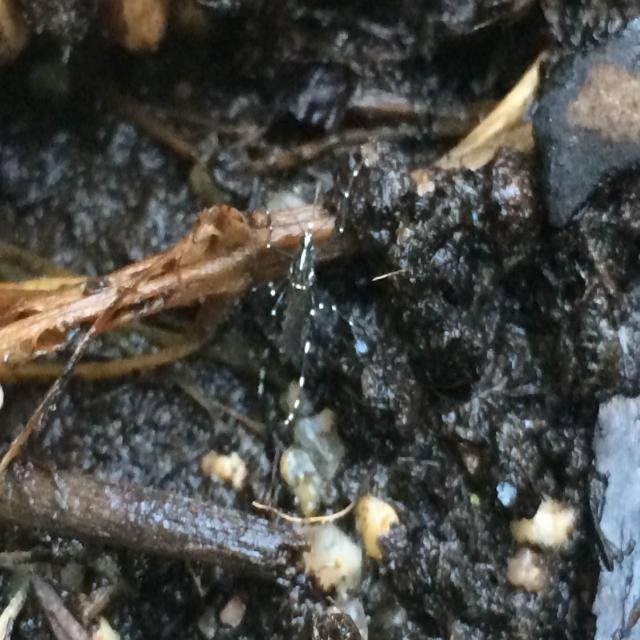albopictus: (221, 192, 377, 450)
